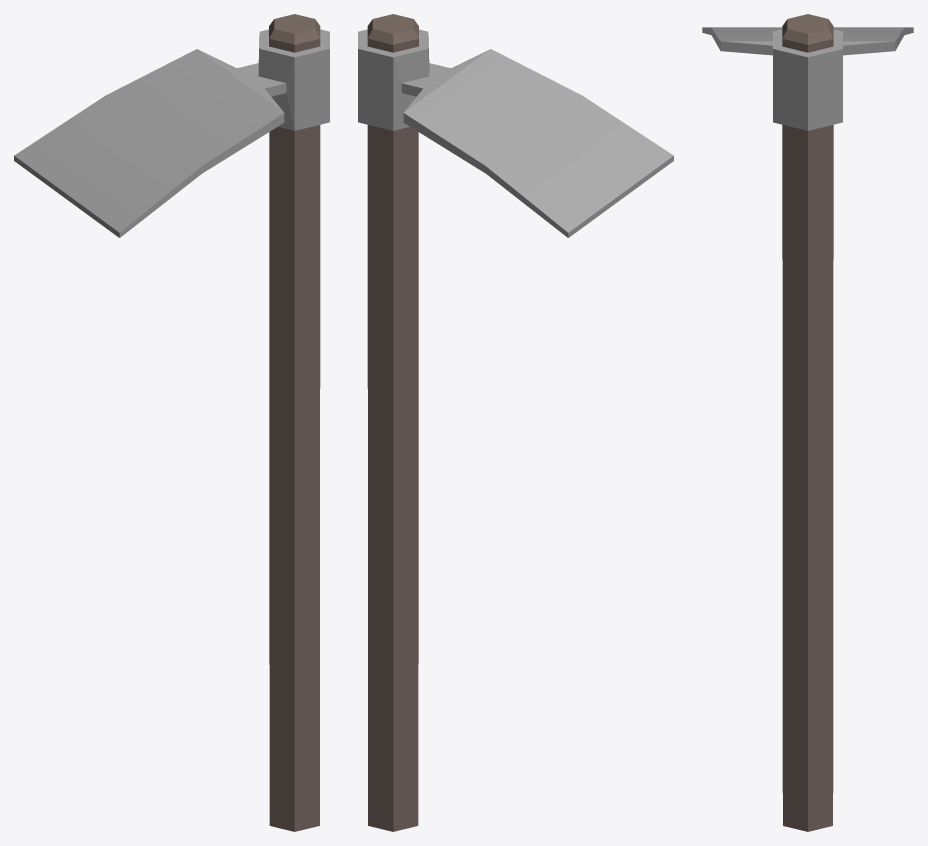
The model's file is Enxada.fbx.
3 views of the same model, side by side, from view 1: azimuth 30°, elevation 25°; view 2: azimuth 150°, elevation 25°; view 3: azimuth 270°, elevation 25° (orthographic).
Parts seen in each view (by area): view 1: pasted__polySurface16, pCylinder8; view 2: pasted__polySurface16, pCylinder8; view 3: pasted__polySurface16, pCylinder8.
Boxes of the visible parts, <box> form: pasted__polySurface16: <box>269,14,320,831</box>; pCylinder8: <box>14,29,329,237</box>; pasted__polySurface16: <box>367,14,418,831</box>; pCylinder8: <box>358,29,673,237</box>; pasted__polySurface16: <box>782,14,833,831</box>; pCylinder8: <box>702,27,913,130</box>.
Size of the model in its own units: 0.3254 by 0.9408 by 0.2262.
